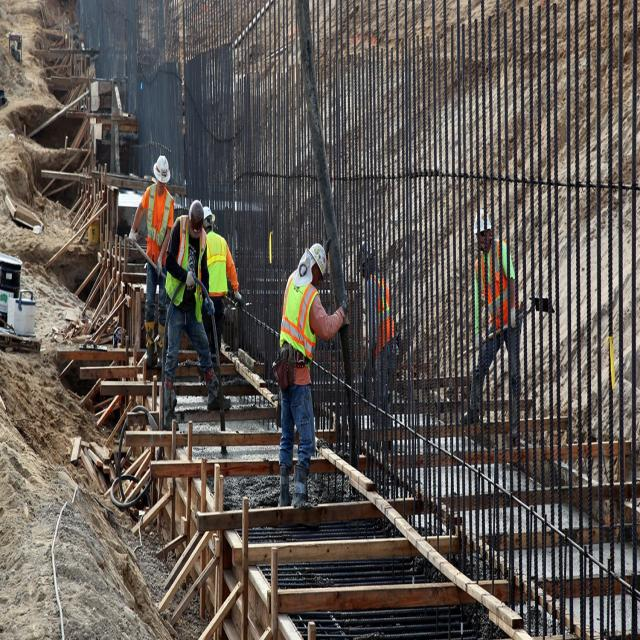body: (272, 220, 350, 504), (163, 199, 232, 432), (460, 207, 526, 448), (128, 150, 175, 370), (356, 240, 398, 455), (202, 206, 242, 364)
